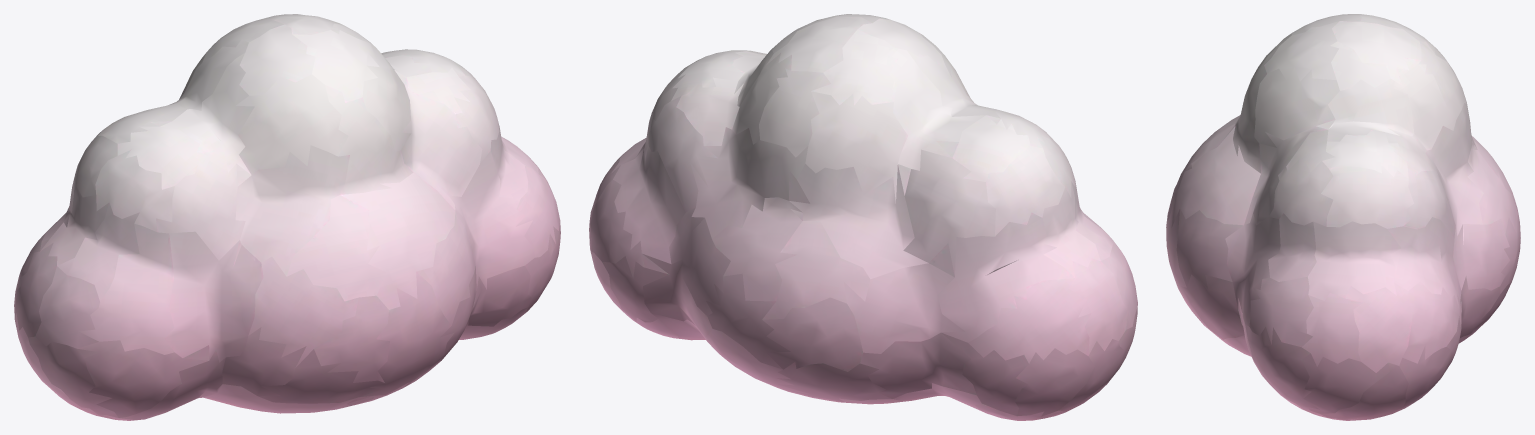
File: cotton_cloud.glb
3 renders of one model, left to right at view 1: azimuth 30°, elevation 25°; view 2: azimuth 150°, elevation 25°; view 3: azimuth 270°, elevation 25°, orthographic. The views are drawn at different scales.
Size of the model in its own units: 1.9 by 1.24 by 1.22.
1 material, 1 textured.
